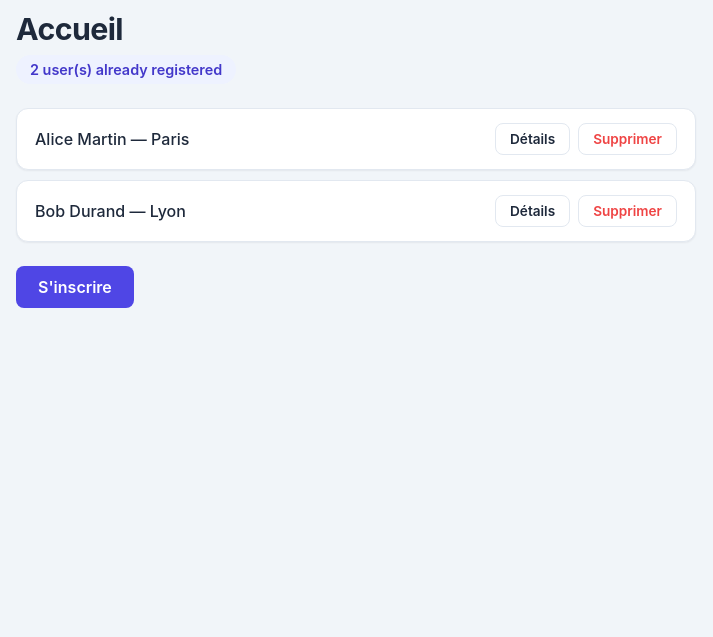
HomePage › mode admin › ferme le panneau de détails
Click the button with test id "detail-1" at (533, 139), box 495,123 -> 570,155
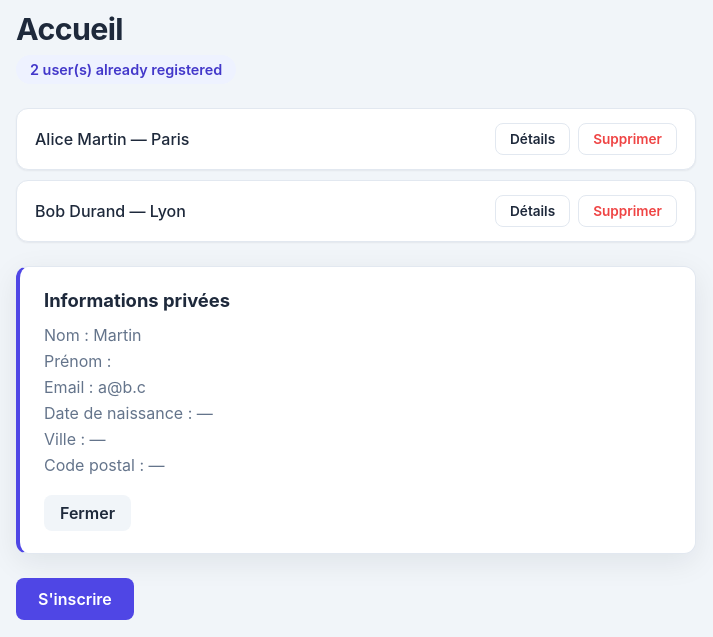
Result: the element with test id "user-detail" is shown at 16,266 -> 696,554
Click the button with test id "close-detail" at (88, 513), box 44,495 -> 131,531
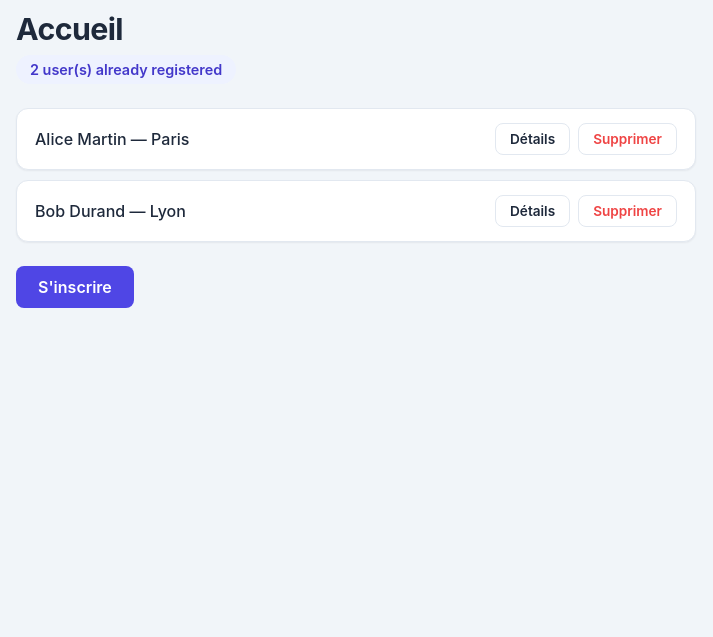
Result: the element with test id "user-detail" is gone
